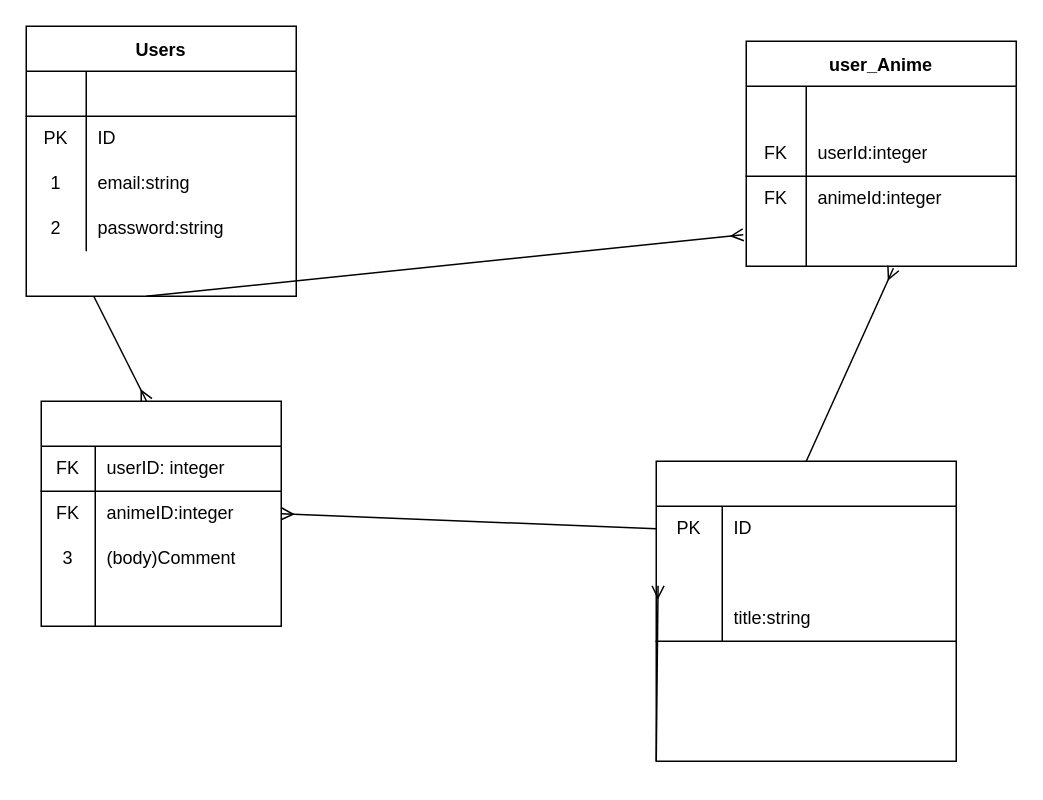
This 1043x800 diagram has some shape labels left out. Here are the shapes that lost their labels. From the top down, the box of each, then its label:
(40, 400, 281, 626): Comments
(655, 460, 956, 761): anime
